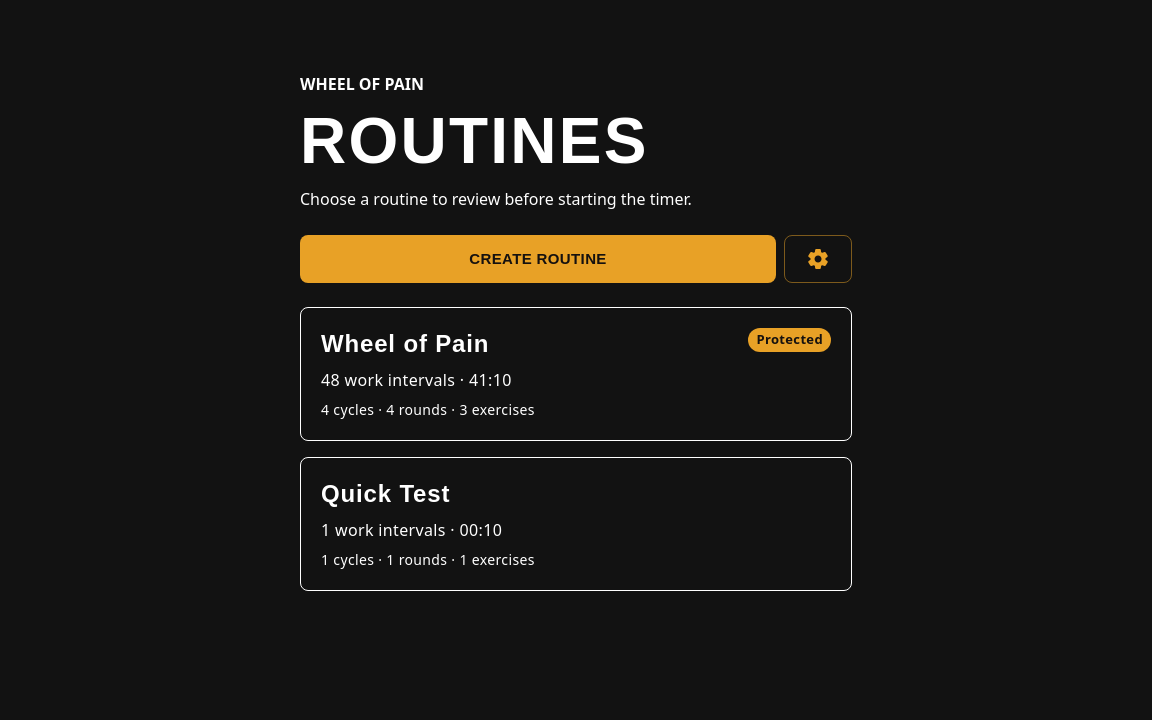
App workout flow › lists a saved routine and starts its configured sequence
Expected: the heading "Routines" is shown, [300,105,649,177]
Click the button with aria-label "Review Quick Test".
click(386, 493)  # box [300,457,852,591]
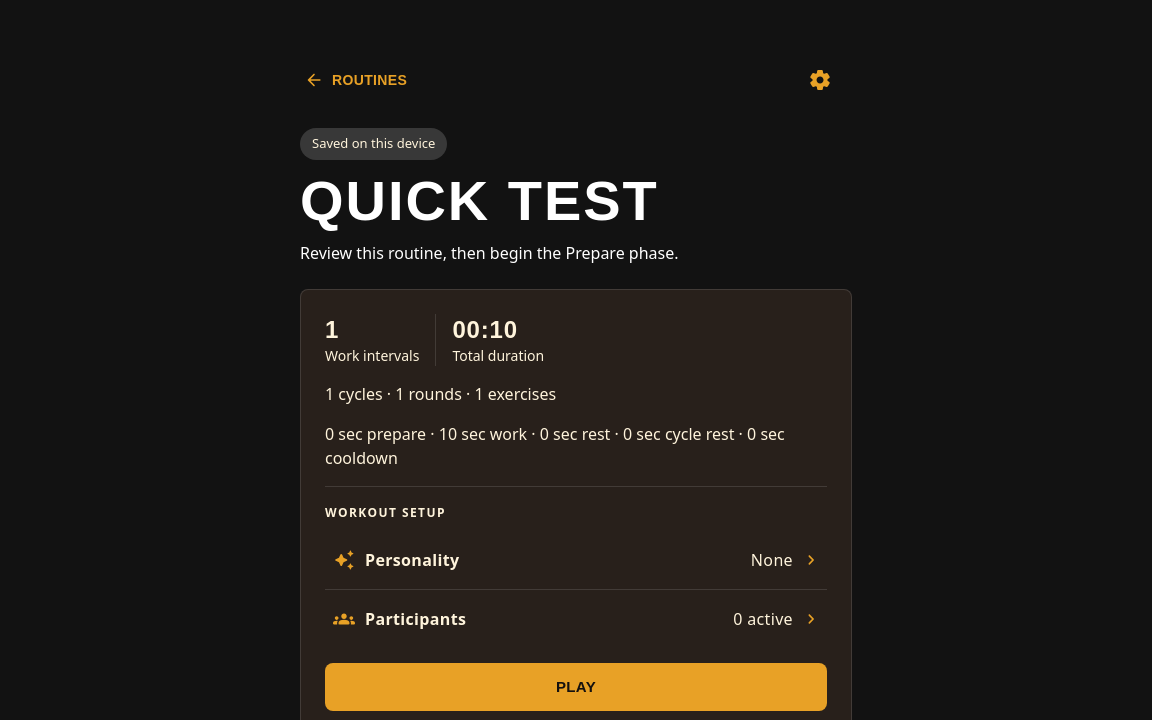
Now the heading "Quick Test" is shown, box [300,169,659,232]
Now the text "Saved on this device" is shown, box [312,134,435,152]
Click the button "Play".
click(576, 687)  # box [325,663,827,711]
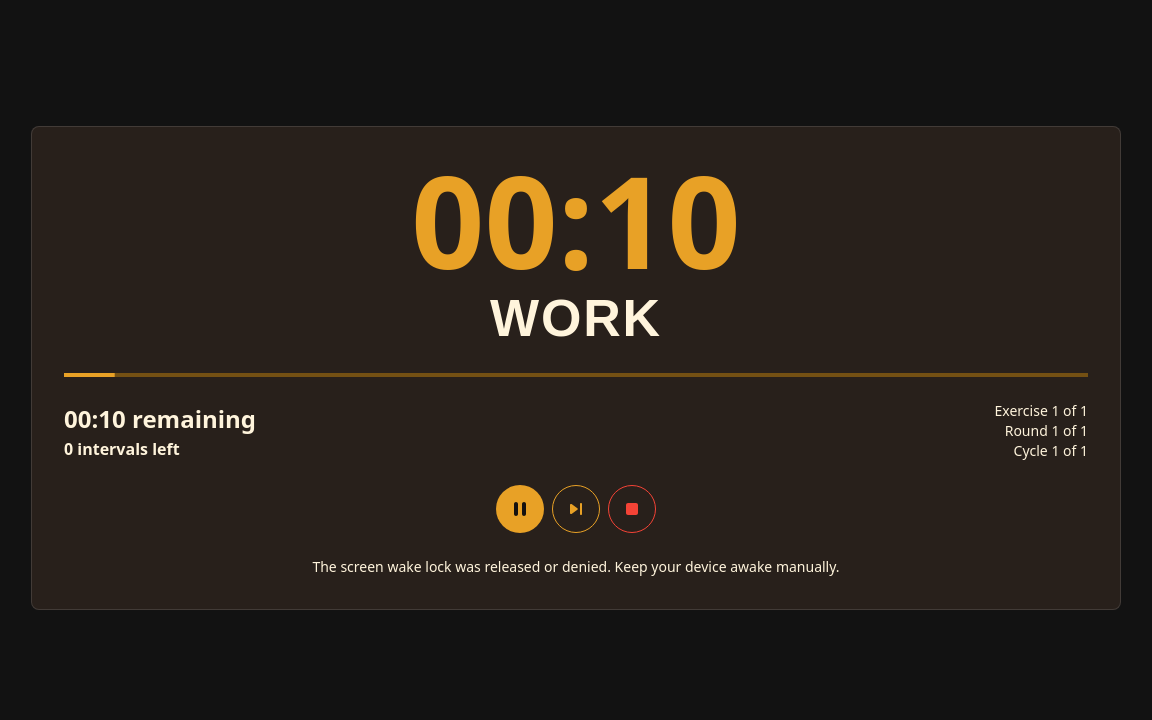
Now the heading "Work" is shown, box [490,289,662,347]
Now the text named "Time remaining" reads "00:10", box [411,132,741,307]
Now the text named "Workout time remaining" reads "00:10 remaining", box [64,401,256,437]
